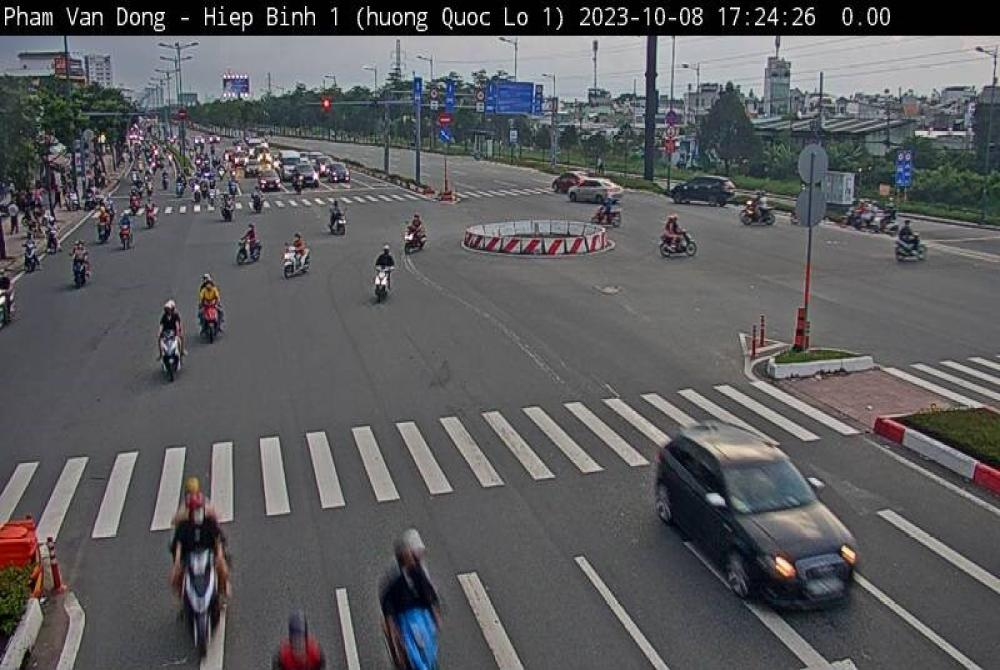car: (659, 413, 859, 608)
motorbike: (196, 288, 228, 350), (155, 320, 184, 379)
